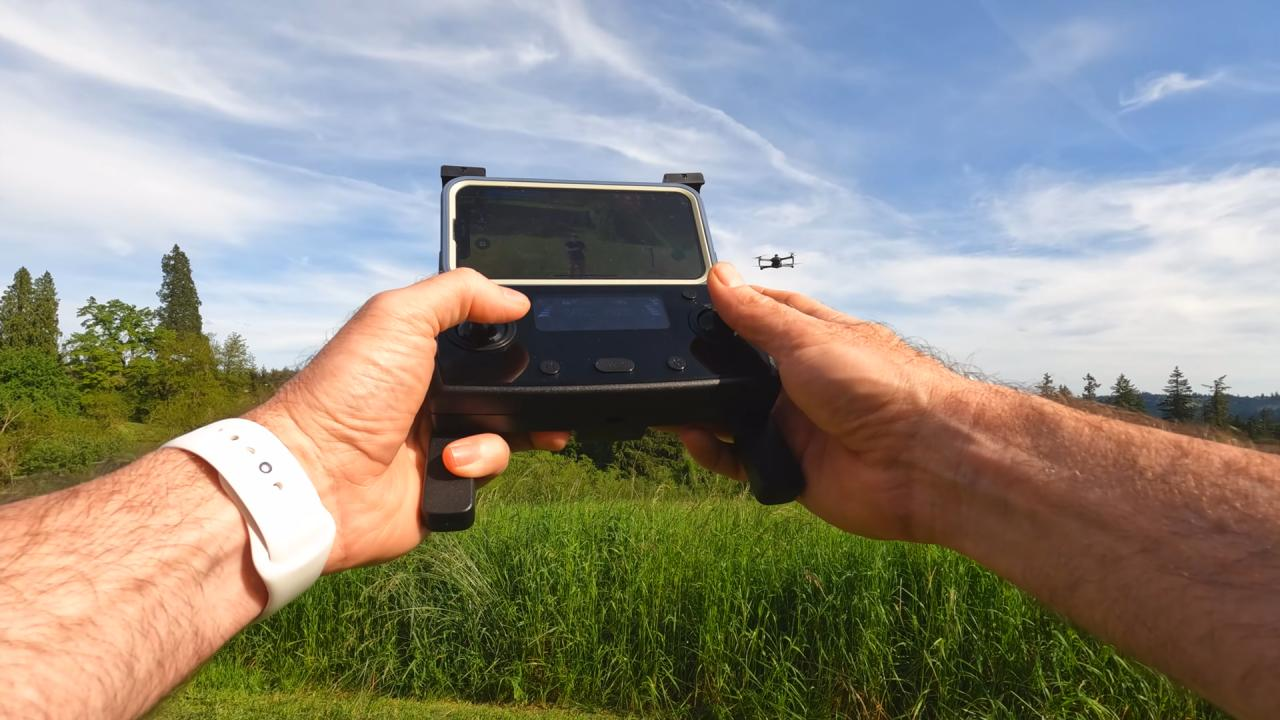Drone: (745, 241, 812, 286)
